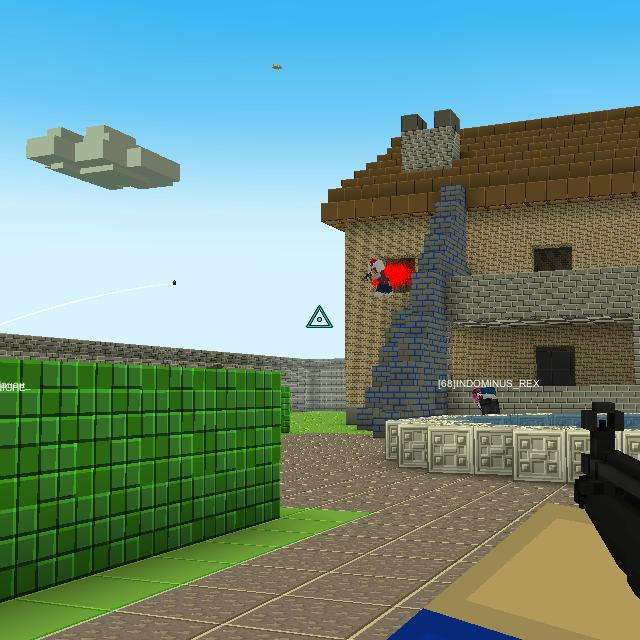enemy: (366, 258, 394, 296)
